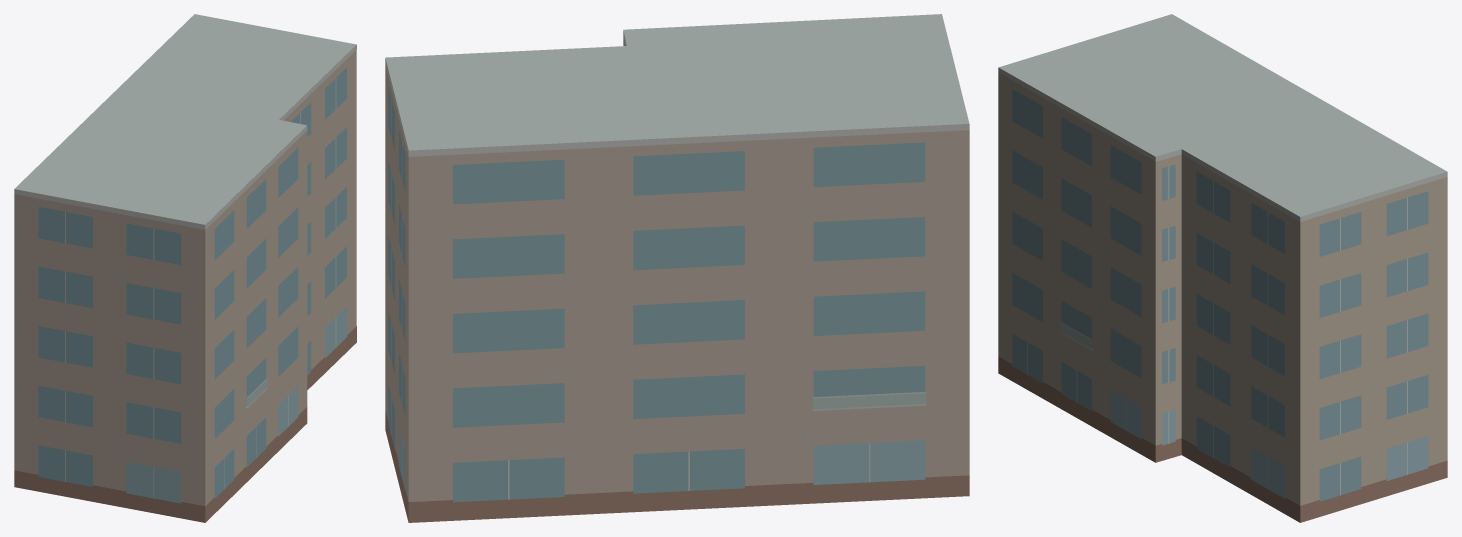
The model's file is survey-upis-32999410.glb.
3 renders of one model, left to right at view 1: azimuth 30°, elevation 25°; view 2: azimuth 150°, elevation 25°; view 3: azimuth 270°, elevation 25°, orthographic. The views are drawn at different scales.
Parts seen in each view (by area): view 1: survey-upis-32999410.tmp; view 2: survey-upis-32999410.tmp; view 3: survey-upis-32999410.tmp.
Boxes of the visible parts, x1,y1,x2,y2 form: survey-upis-32999410.tmp: [14, 14, 356, 522]; survey-upis-32999410.tmp: [385, 14, 969, 522]; survey-upis-32999410.tmp: [998, 14, 1447, 522].
Bounding box in the file's own units: 20.64 × 14.5 × 19.3.
